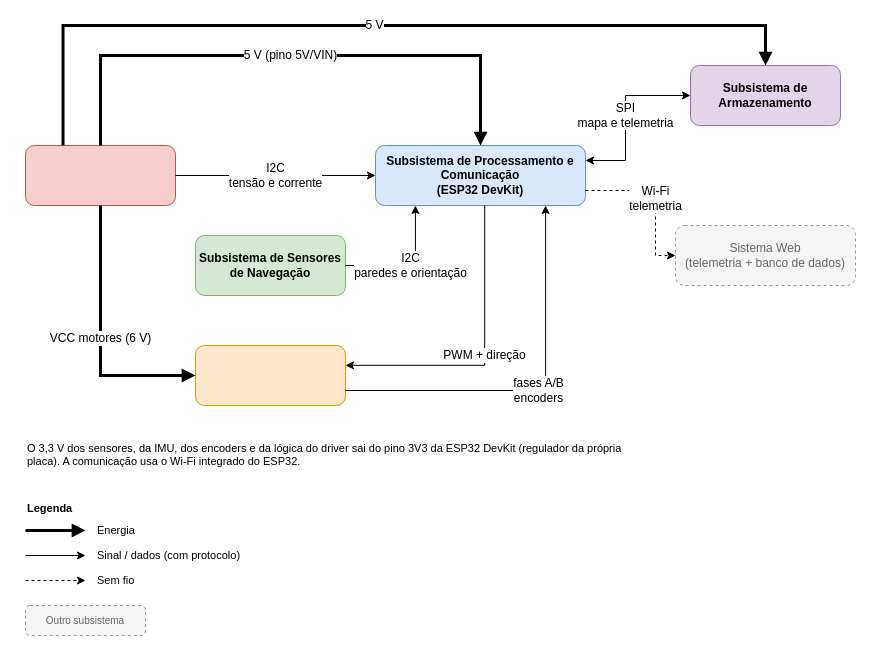
The diagram is 873 pixels wide and 653 high, and some of its shapes have lost their labels. Each missing label, with the box of its shape:
Subsistema de Atuação e Odometria: (194, 344, 346, 406)
Subsistema de Energia: (24, 144, 176, 206)
